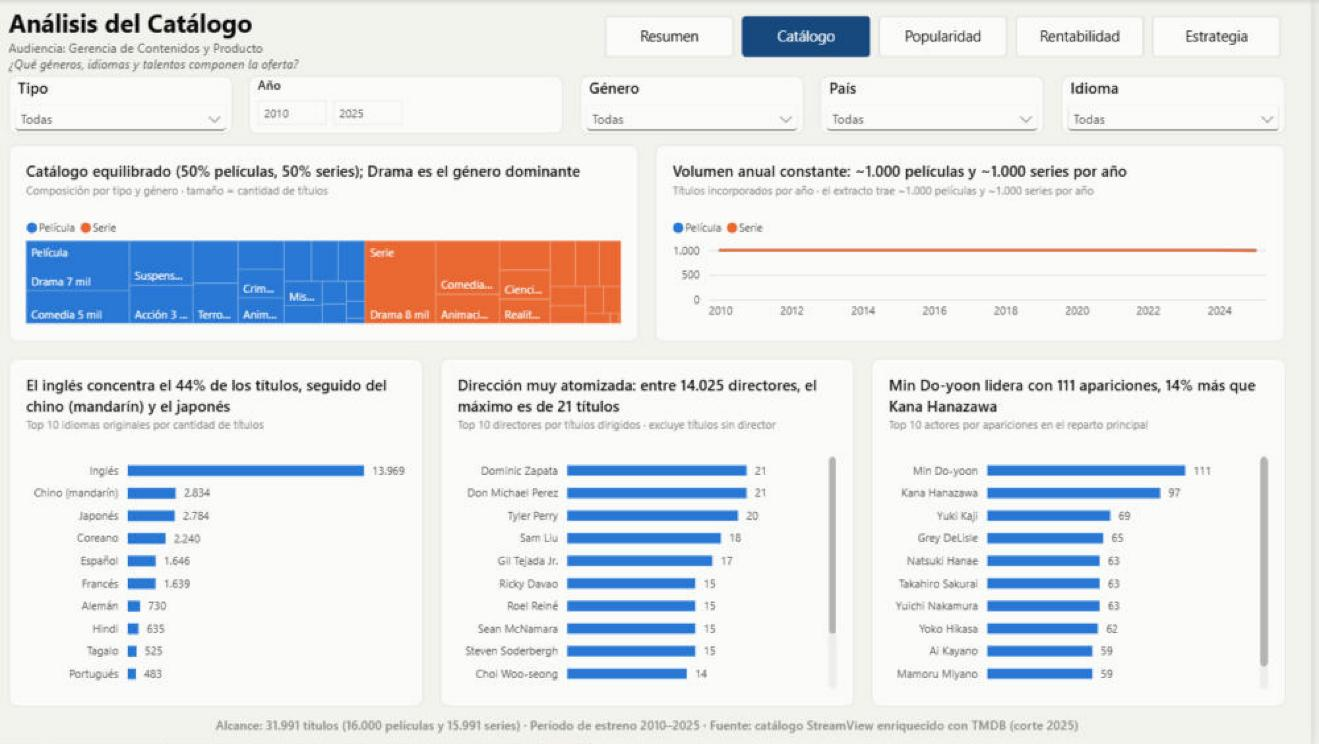

What the dashboard file says about the page in this screenshot:
{"tool":"powerbi","page":{"name":"Catálogo","canvas":[1280,720],"ordinal":1},"visuals":[{"type":"textbox","box":[24,6,560,64],"z":1000},{"type":"pageNavigator","box":[600,16,656,40],"z":2000},{"type":"slicer","fields":{"Values":["Contenido.Tipo"]},"box":[24,74,216.3,56],"z":3000},{"type":"slicer","fields":{"Values":["Calendario.Año"]},"box":[256.3,74,302.8,56],"z":4000},{"type":"slicer","fields":{"Values":["Genero.Género"]},"box":[575.1,74,216.3,56],"z":5000},{"type":"slicer","fields":{"Values":["Pais.País"]},"box":[807.4,74,216.3,56],"z":6000},{"type":"slicer","fields":{"Values":["Contenido.Idioma"]},"box":[1039.7,74,216.3,56],"z":7000},{"type":"treemap","fields":{"Details":["Genero.Género"],"Group":["Contenido.Tipo"],"Values":["Medidas.Total Contenidos"]},"box":[24,140,608,190],"z":8000},{"type":"lineChart","fields":{"Category":["Calendario.Año"],"Series":["Contenido.Tipo"],"Y":["Medidas.Total Contenidos"]},"box":[648,140,608,190],"z":9000},{"type":"clusteredBarChart","fields":{"Category":["Contenido.Idioma"],"Y":["Medidas.Total Contenidos"]},"box":[24,346,400,336],"z":10000},{"type":"clusteredBarChart","fields":{"Category":["Direccion.Director"],"Y":["Medidas.Títulos Dirigidos"]},"box":[440,346,400,336],"z":11000},{"type":"clusteredBarChart","fields":{"Category":["Reparto.Actor"],"Y":["Medidas.Apariciones"]},"box":[856,346,400,336],"z":12000},{"type":"card","fields":{"Values":["Medidas.Texto Alcance"]},"box":[24,686,1232,32],"z":13000}]}

Visuals, with their boxes in screenshot pixels (x1, y1, x2, y2), scaled from the page's 1280x720 canvas onto the 1319x744 screenshot:
textbox: {"left": 25, "top": 6, "right": 602, "bottom": 72}
pageNavigator: {"left": 618, "top": 17, "right": 1294, "bottom": 58}
slicer - Contenido.Tipo: {"left": 25, "top": 76, "right": 248, "bottom": 134}
slicer - Calendario.Año: {"left": 264, "top": 76, "right": 576, "bottom": 134}
slicer - Genero.Género: {"left": 593, "top": 76, "right": 816, "bottom": 134}
slicer - Pais.País: {"left": 832, "top": 76, "right": 1055, "bottom": 134}
slicer - Contenido.Idioma: {"left": 1071, "top": 76, "right": 1294, "bottom": 134}
treemap - Genero.Género x Contenido.Tipo: {"left": 25, "top": 145, "right": 651, "bottom": 341}
lineChart - Calendario.Año x Contenido.Tipo: {"left": 668, "top": 145, "right": 1294, "bottom": 341}
clusteredBarChart - Contenido.Idioma x Medidas.Total Contenidos: {"left": 25, "top": 358, "right": 437, "bottom": 705}
clusteredBarChart - Direccion.Director x Medidas.Títulos Dirigidos: {"left": 453, "top": 358, "right": 866, "bottom": 705}
clusteredBarChart - Reparto.Actor x Medidas.Apariciones: {"left": 882, "top": 358, "right": 1294, "bottom": 705}
card - Medidas.Texto Alcance: {"left": 25, "top": 709, "right": 1294, "bottom": 742}
